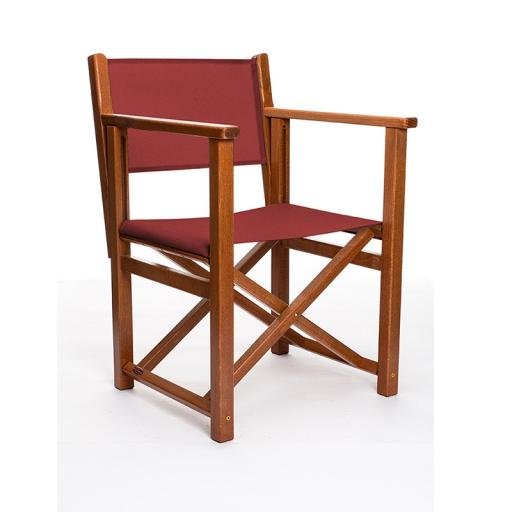chair: (81, 53, 424, 442)
